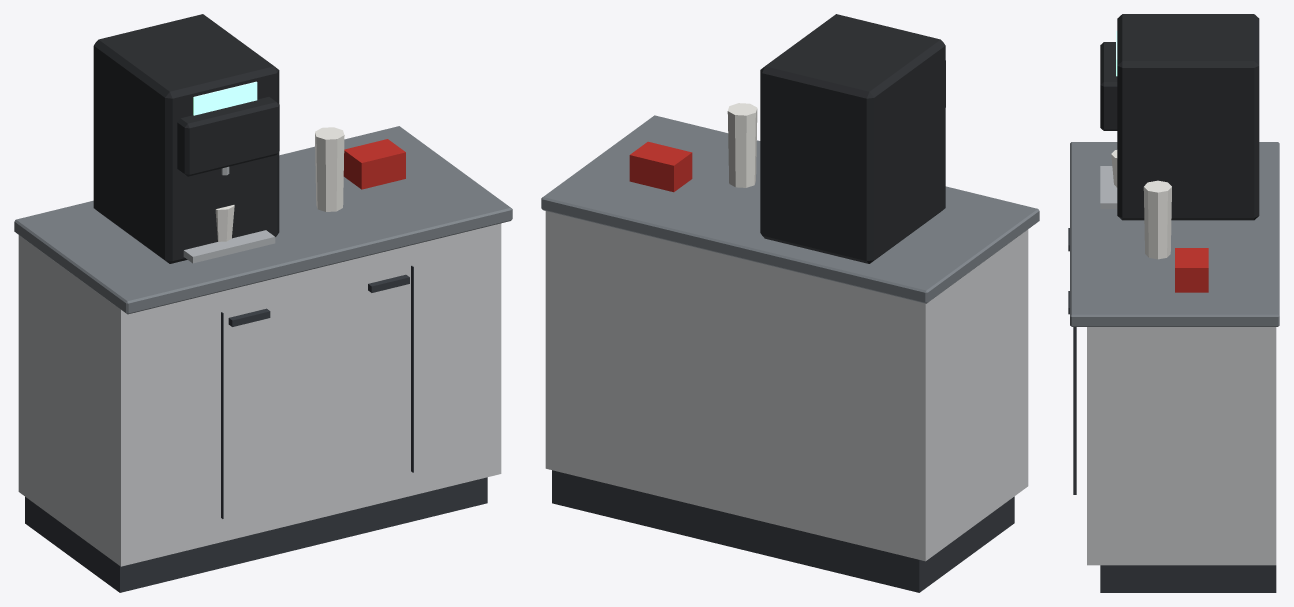
The model's file is coffee_machine.glb.
3 renders of one model, left to right at view 1: azimuth 30°, elevation 25°; view 2: azimuth 150°, elevation 25°; view 3: azimuth 270°, elevation 25°, orthographic. The views are drawn at different scales.
Parts seen in each view (by area): view 1: CoffeeMachine; view 2: CoffeeMachine; view 3: CoffeeMachine.
Boxes of the visible parts, x1,y1,x2,y2 form: CoffeeMachine: (14, 14, 512, 592); CoffeeMachine: (541, 14, 1039, 592); CoffeeMachine: (1068, 14, 1279, 592).
Size of what is drawn, in the model's own units: 1.22 by 1.44 by 0.625.
